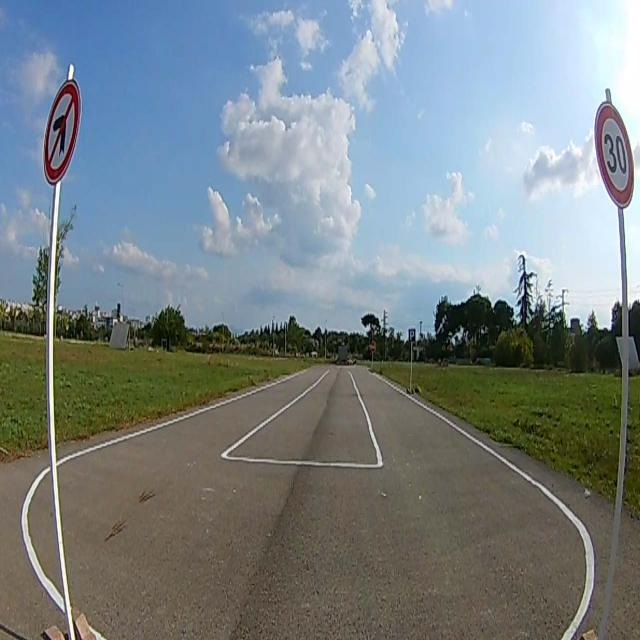30: (595, 102, 634, 206)
soladonulmez: (44, 81, 80, 183)
